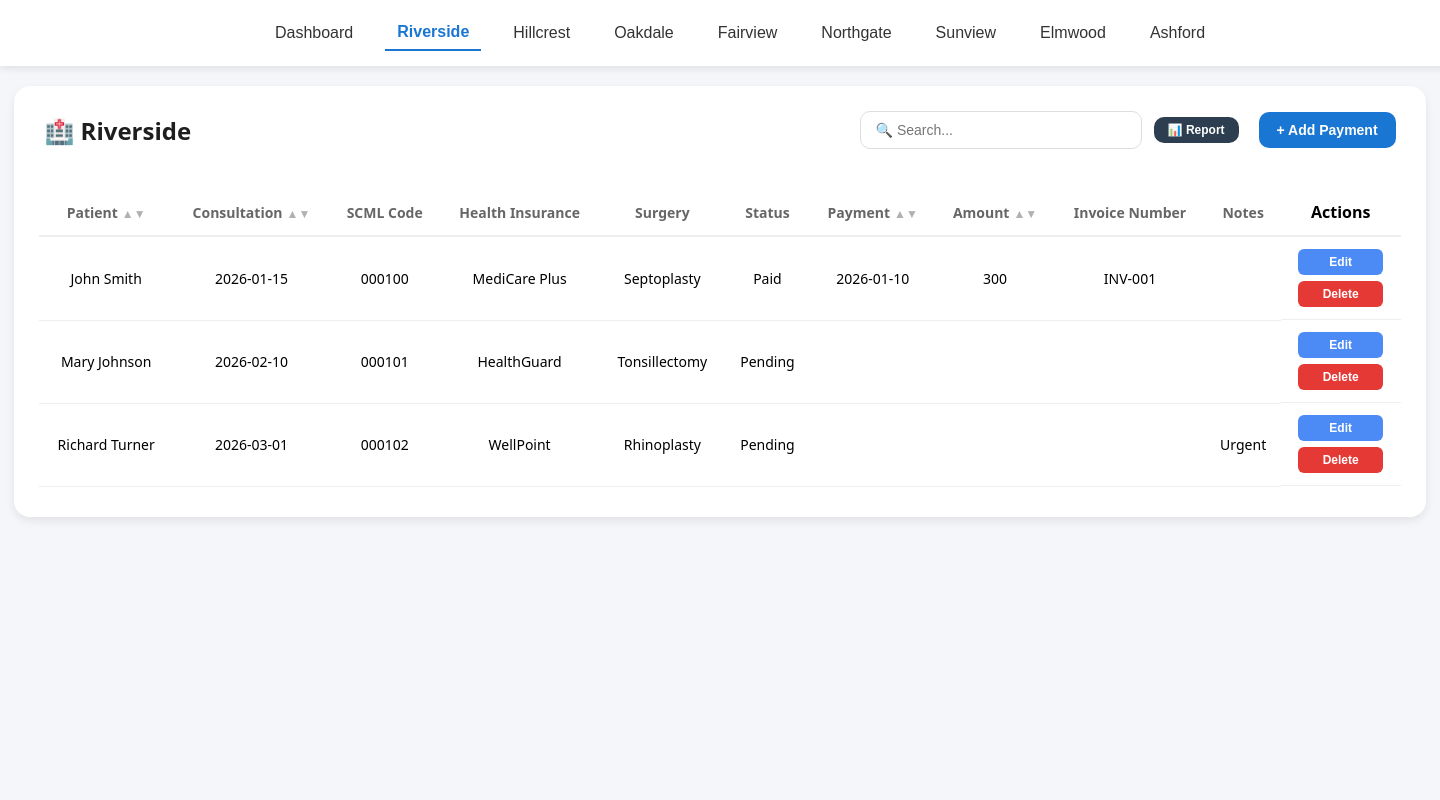
Test: Client CRUD - Riverside › should show confirmation modal when choosing Delete Client & History
Expected: the table with class "styled-table" is shown, x1=39 y1=189 x2=1400 y2=487
Click the button "Delete" in the row of "John Smith" at (1341, 294), box x1=1298 y1=281 x2=1383 y2=307
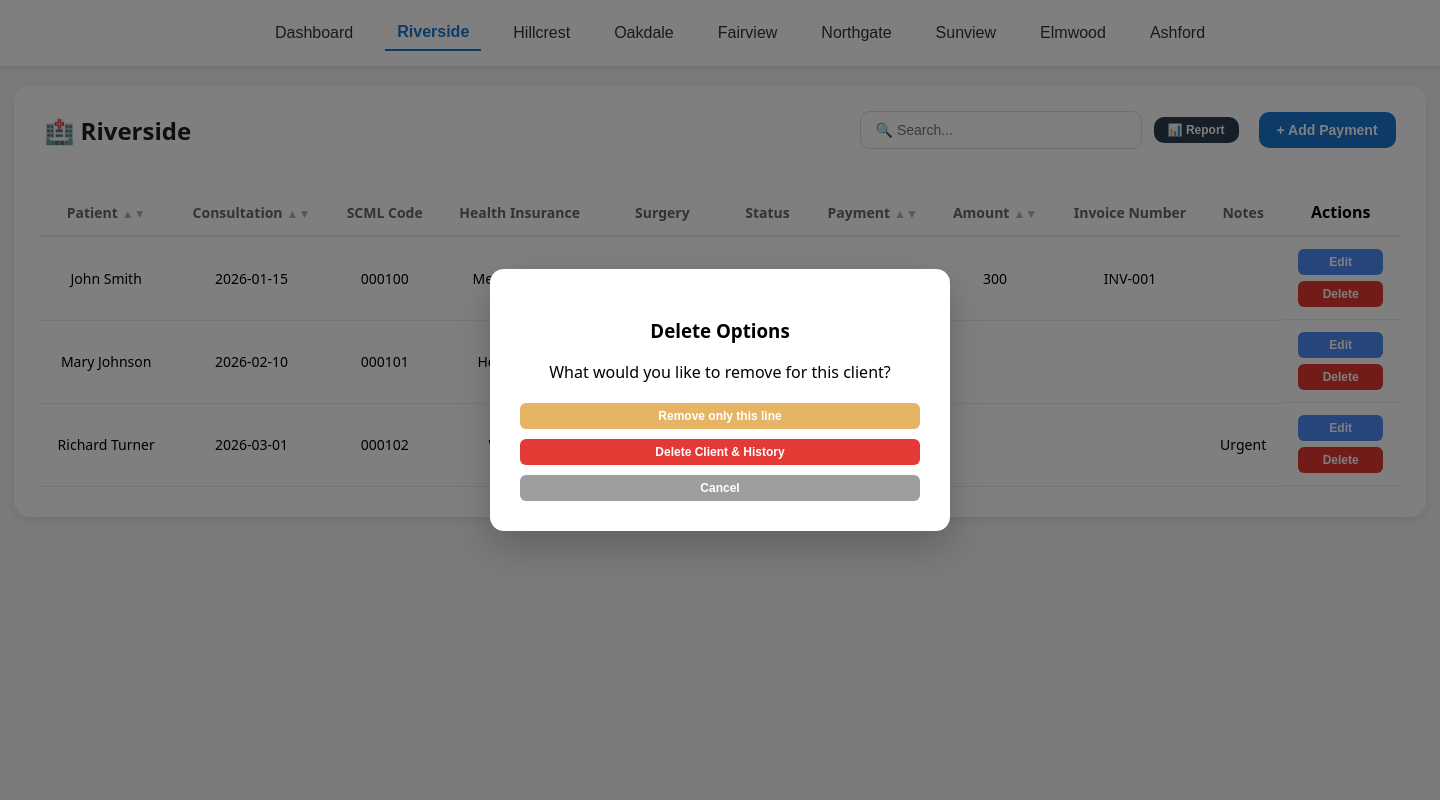
Click the button "Delete Client & History" at (720, 452), box x1=520 y1=439 x2=920 y2=465
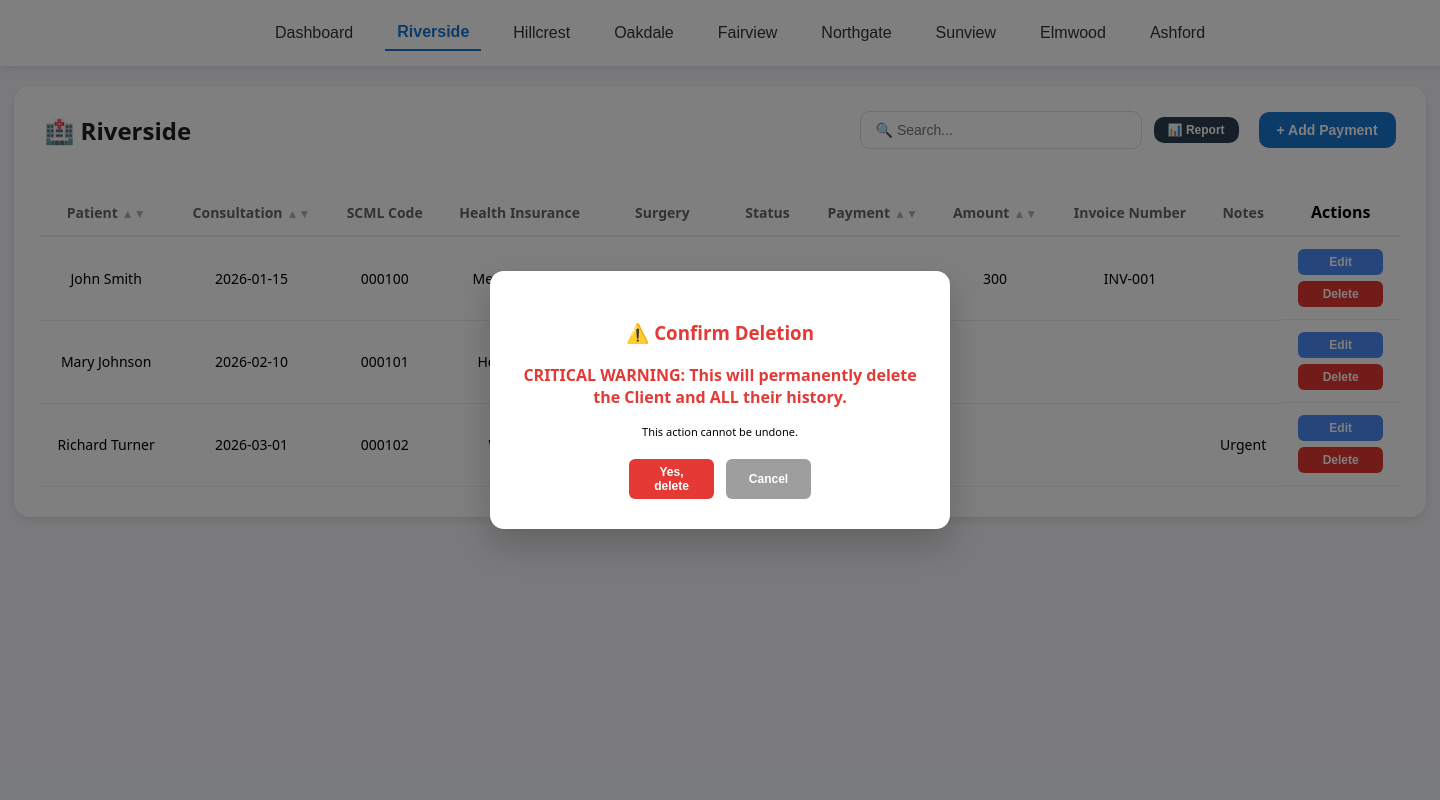
Result: the heading "⚠️ Confirm Deletion" is shown at x1=626 y1=320 x2=814 y2=345
Result: the text with class "modal-box" shows "CRITICAL WARNING" at x1=523 y1=364 x2=916 y2=408
